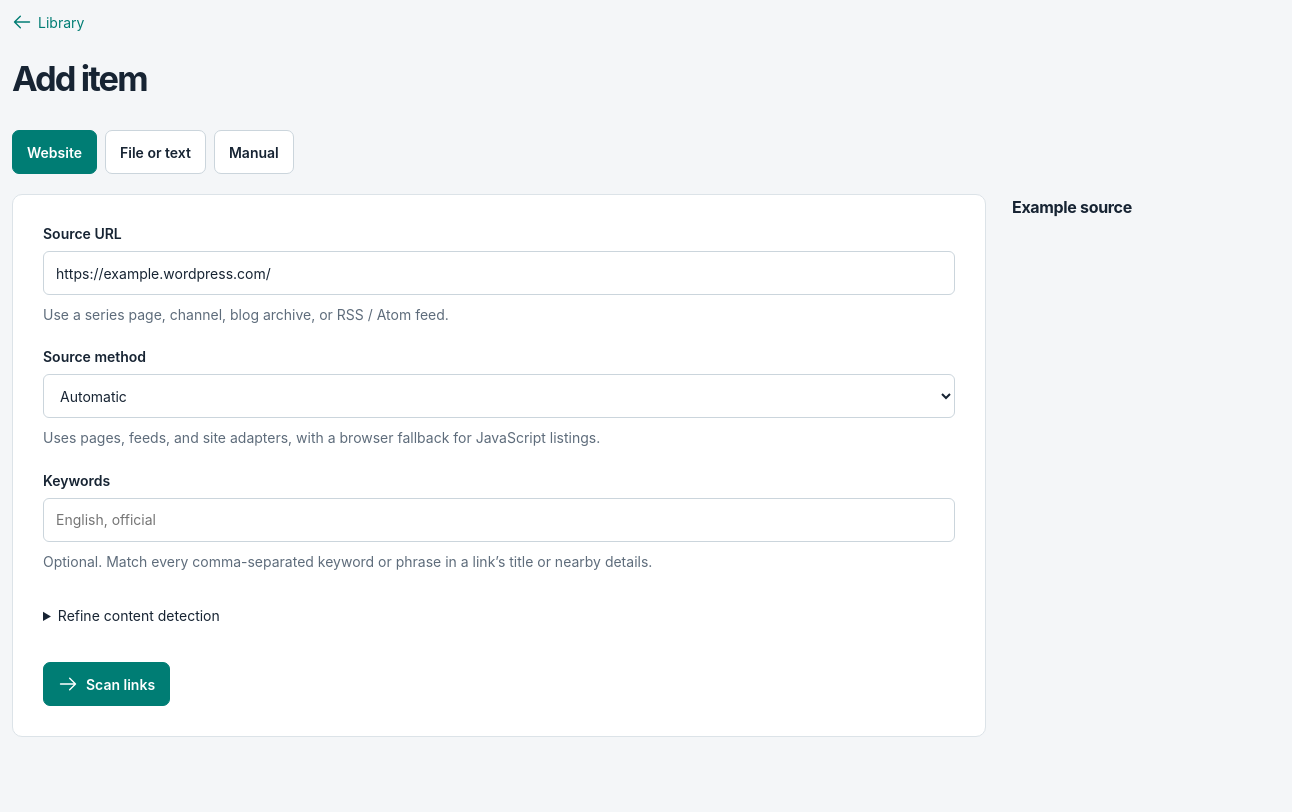
Test: immediate Scan resolves the method without waiting for a detection response
Click the button "Scan links".
click(107, 684)  # box [43, 662, 170, 706]
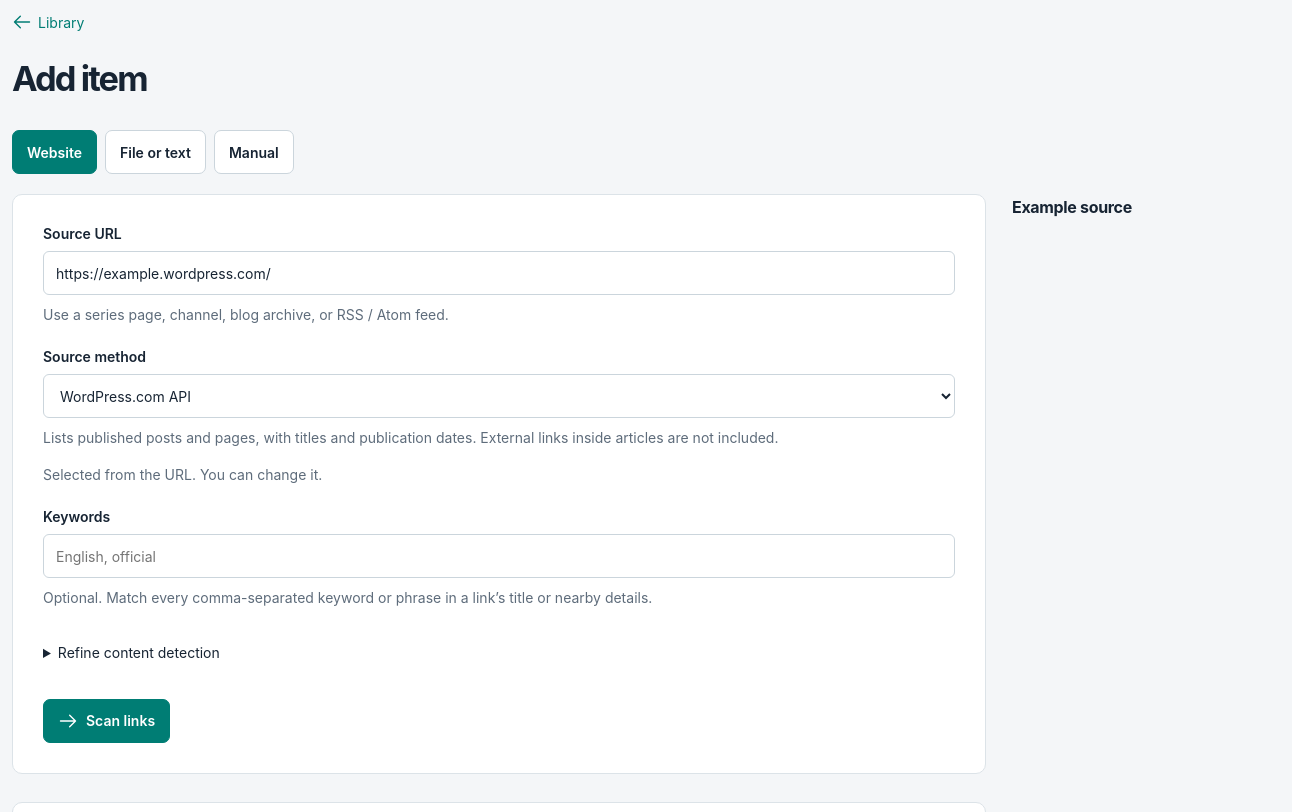
Expected: the dropdown labelled "Source method" shows "WordPress.com API", [43, 374, 955, 418]
